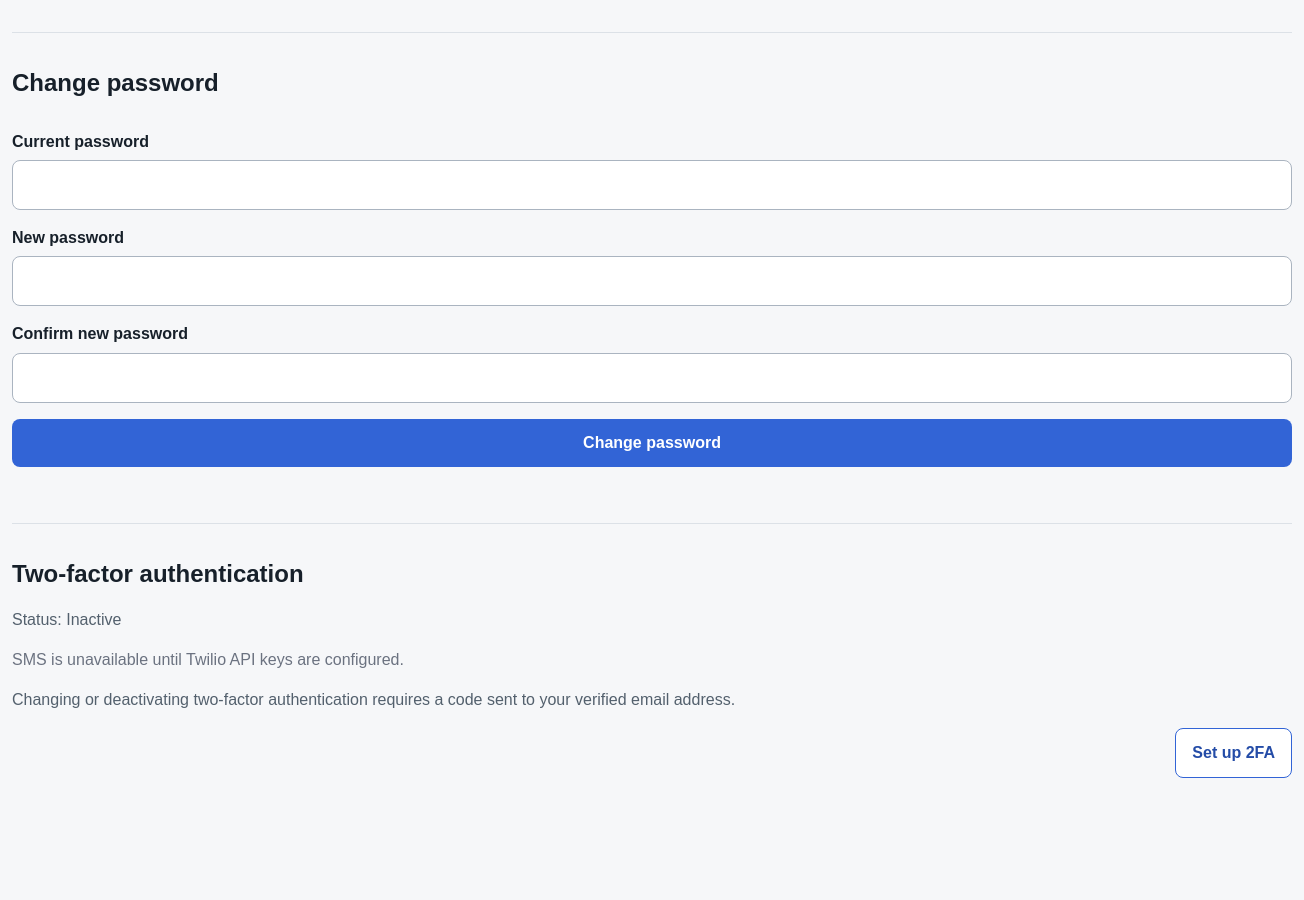
Scenario: ProfileSecurity › requires matching new passwords before submitting
Type "current-password" into the password field labelled "Current password" at (652, 185), box [12,160,1292,210]
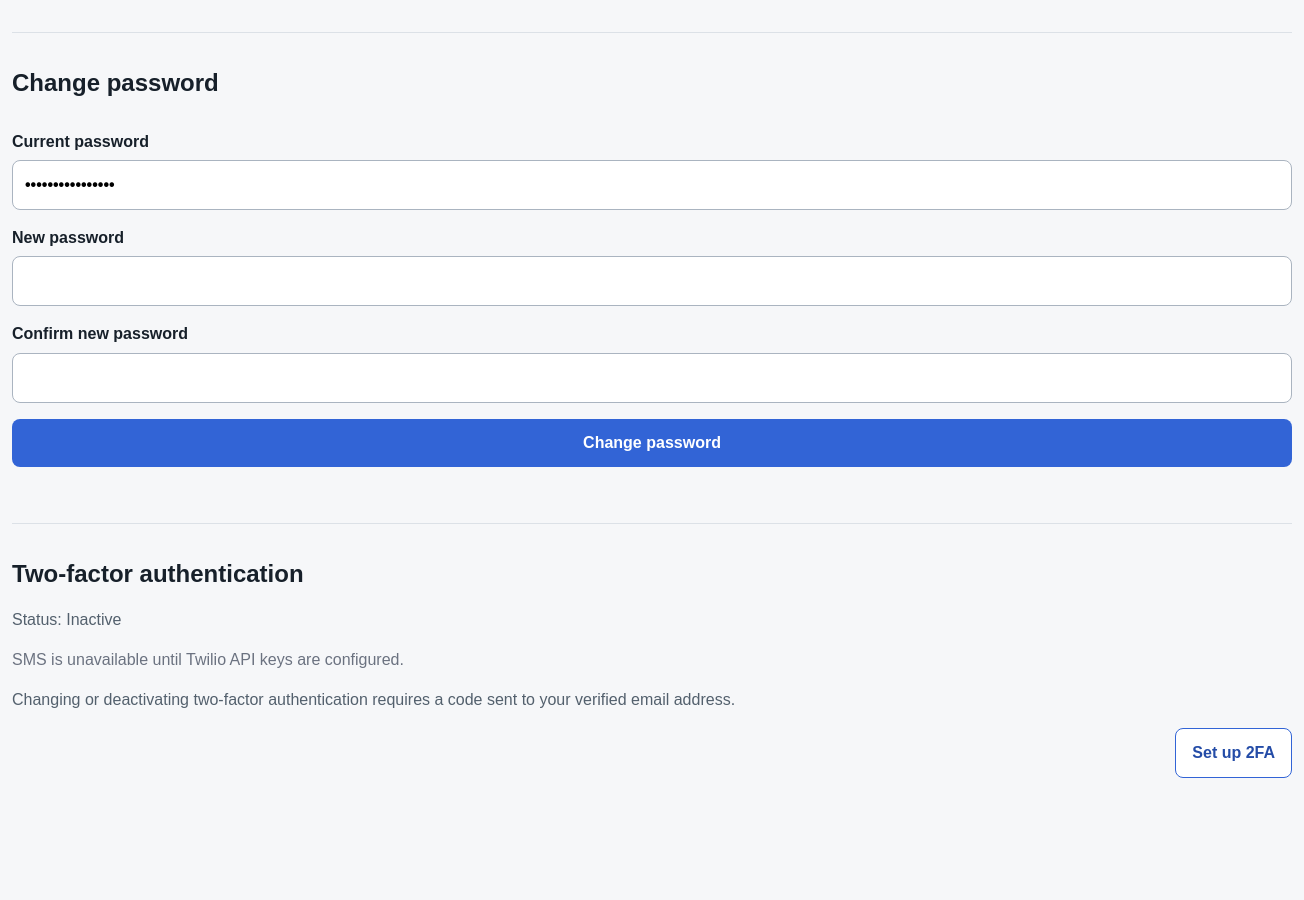
Type "new-password-one" into the password field labelled "New password" at (652, 282), box [12,256,1292,306]
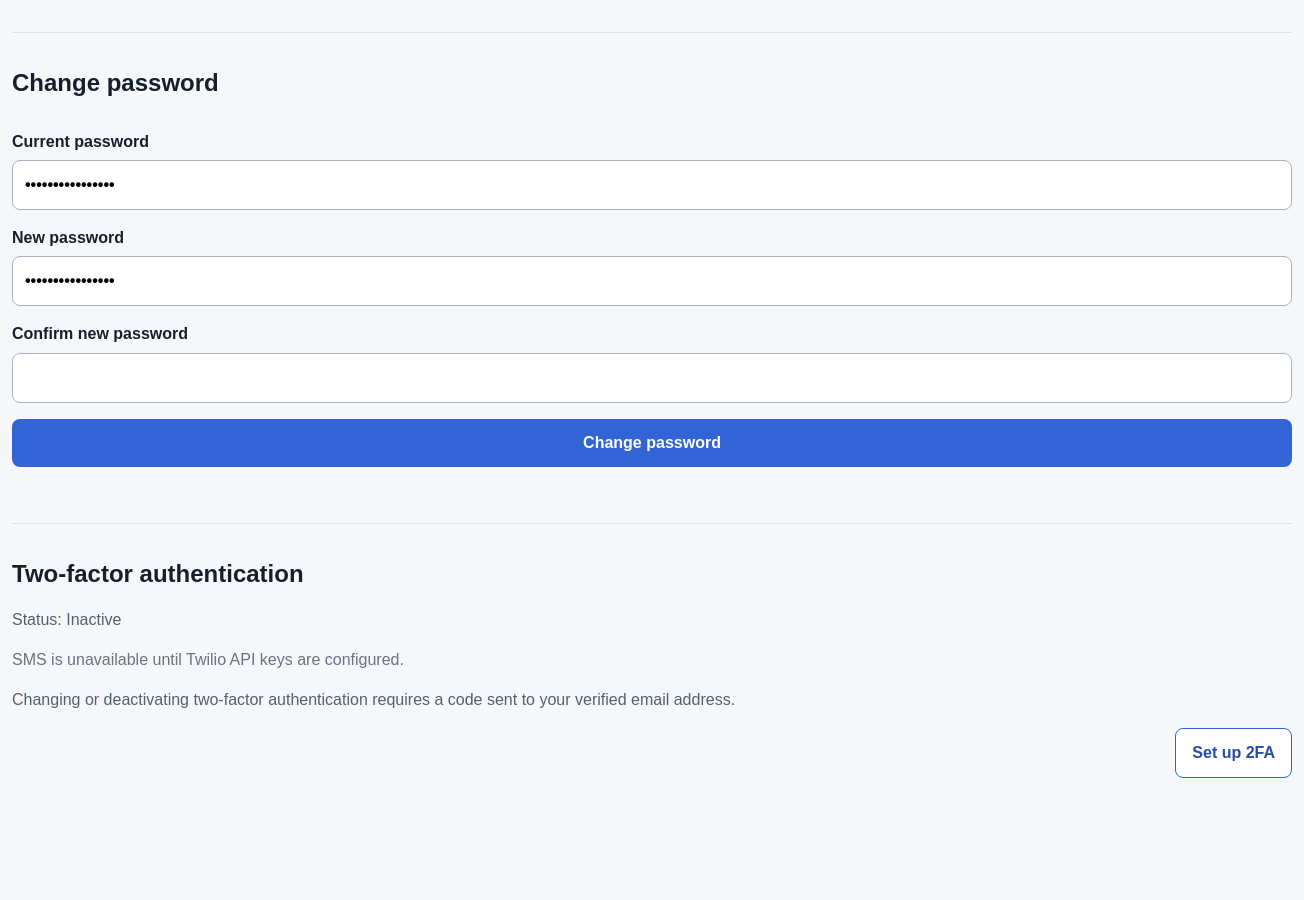
Type "new-password-two" into the password field labelled "Confirm new password" at (652, 378), box [12,353,1292,403]
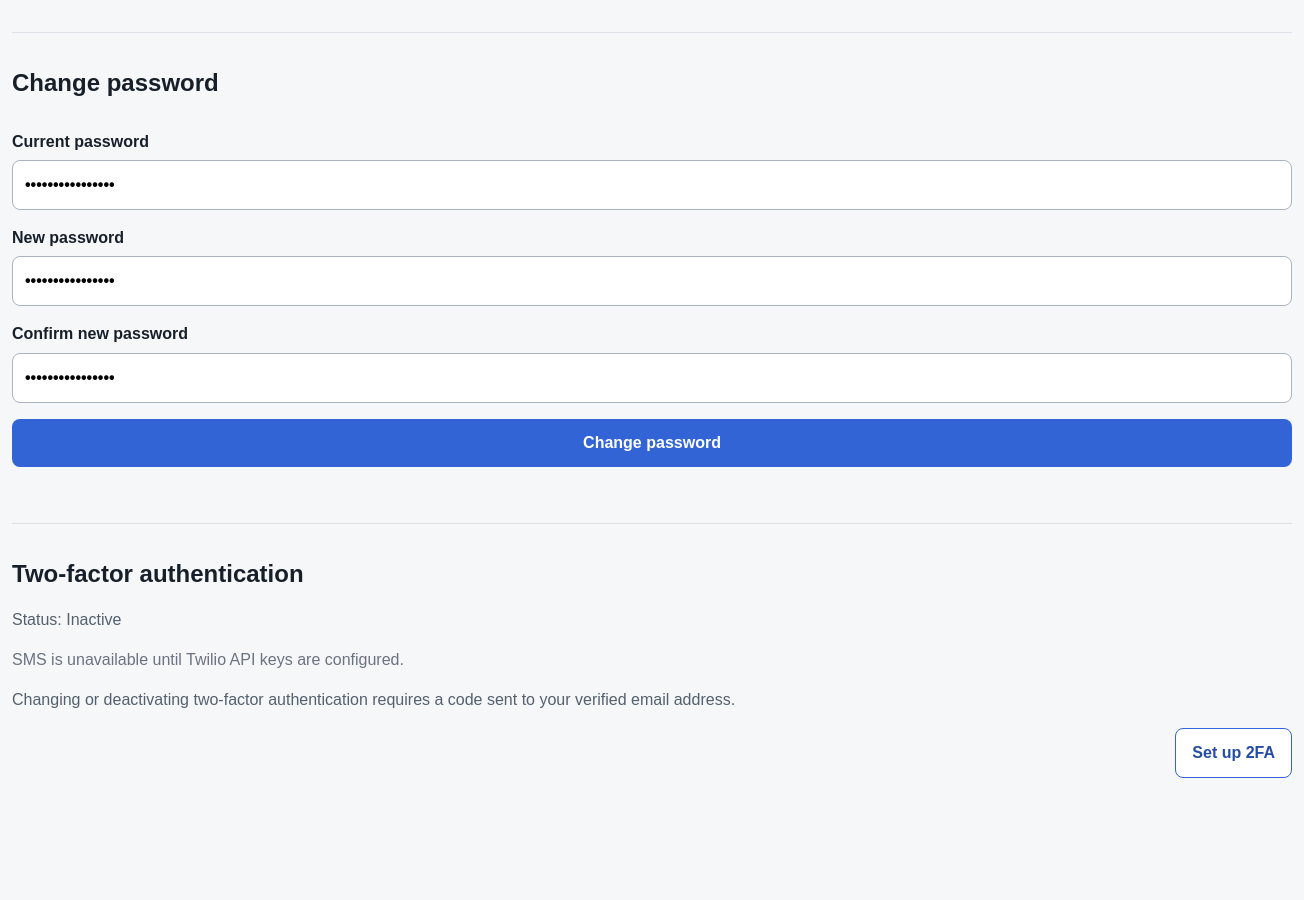
Click the button "Change password" at (652, 443), box [12,419,1292,467]
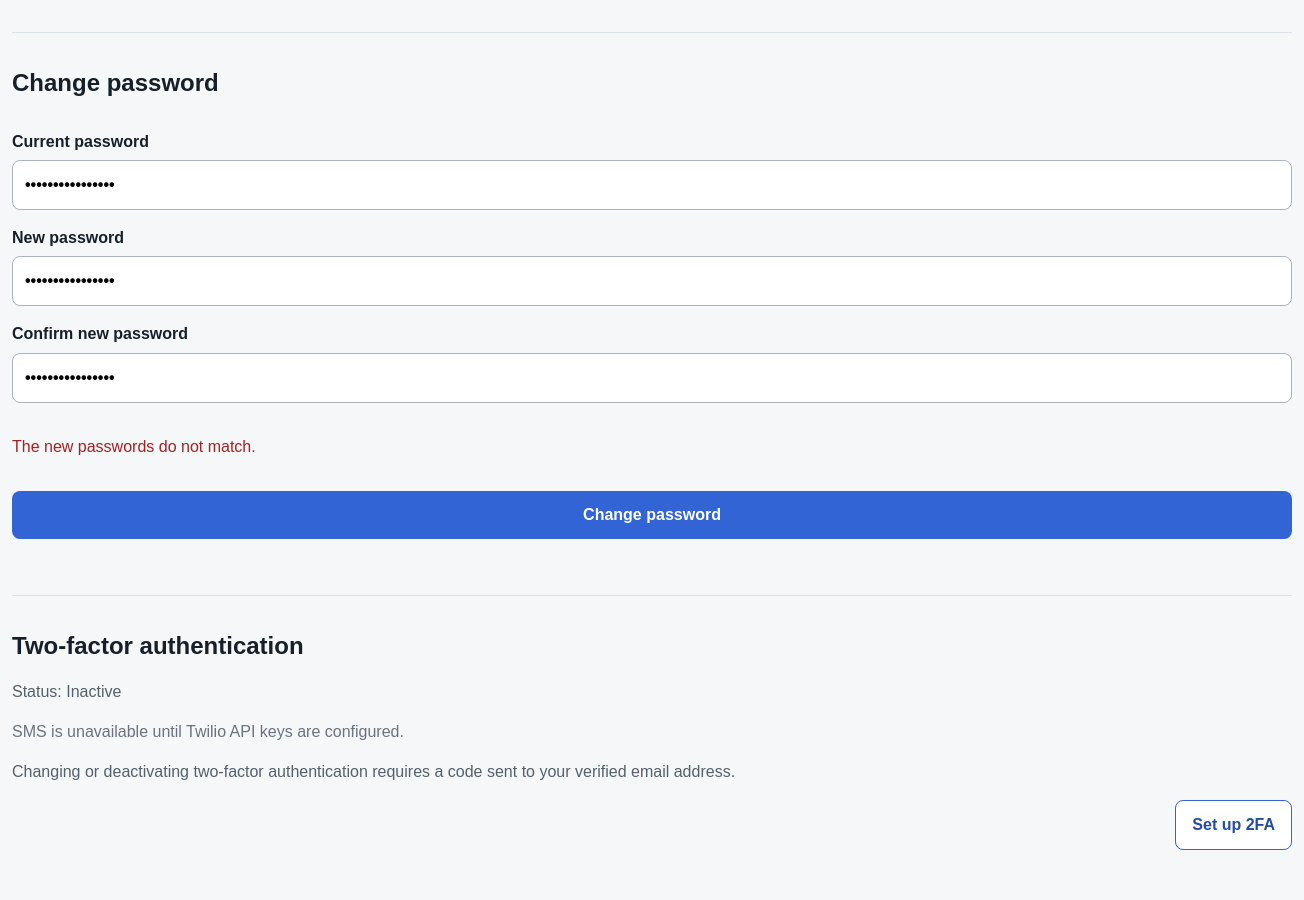
Check: the message reads "The new passwords do not match.", box [12,438,256,455]
